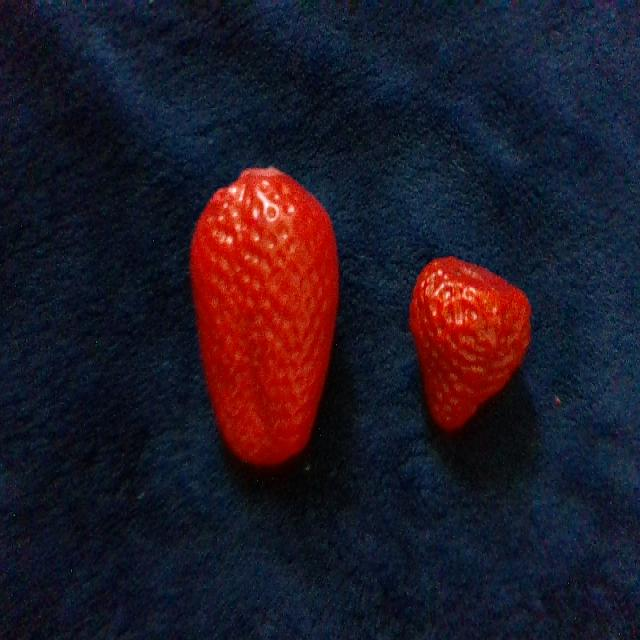chica_roja: (410, 257, 530, 428)
grande_roja: (191, 168, 337, 464)
